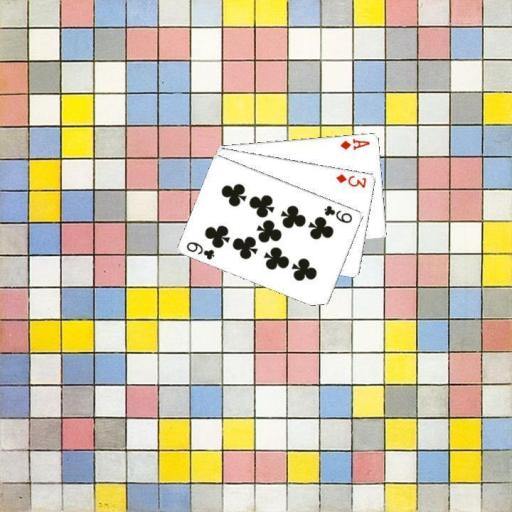card-corner: (321, 202, 354, 225), (184, 238, 216, 261), (332, 171, 368, 189), (337, 135, 371, 152)
